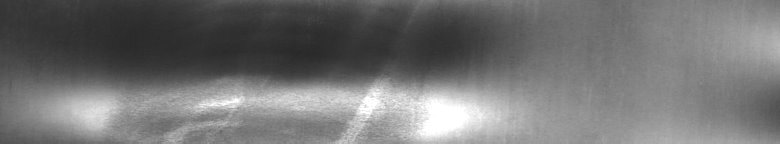ke: (44, 4, 500, 136)
